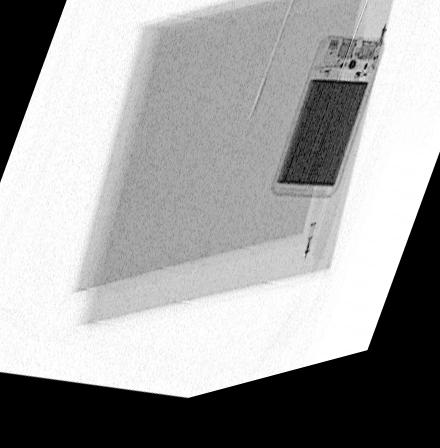Powerbank: (268, 50, 384, 216)
